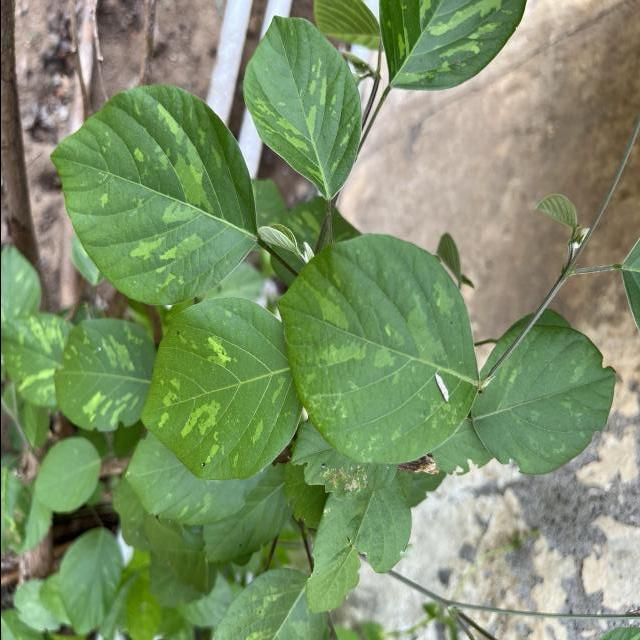Desmodium gangeticum: (271, 231, 482, 467), (47, 81, 261, 307), (136, 296, 304, 486), (240, 11, 364, 204)
